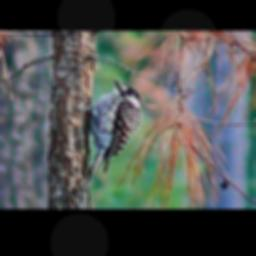Woodpecker: (67, 74, 151, 185)
